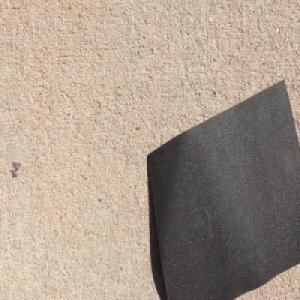PaintChip: (146, 76, 300, 300)
